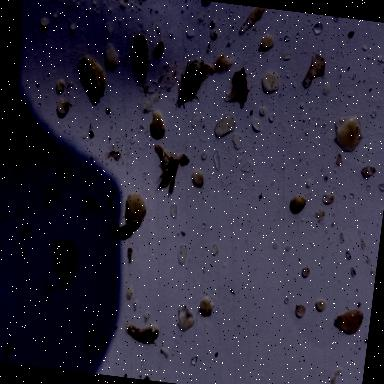pbw: (172, 58, 210, 106), (154, 156, 180, 198), (76, 58, 104, 94), (124, 29, 148, 66), (230, 66, 252, 101), (116, 213, 142, 242), (150, 143, 175, 169)
